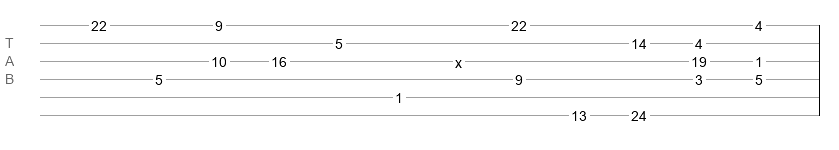1: (395, 90, 403, 100), (755, 54, 763, 64)
10: (211, 54, 227, 64)
13: (571, 108, 587, 118)
14: (631, 36, 647, 46)
16: (271, 54, 287, 64)
19: (691, 54, 707, 64)
22: (91, 18, 107, 28), (511, 18, 527, 28)
24: (631, 108, 647, 118)
3: (695, 72, 703, 82)
4: (695, 36, 703, 46), (755, 18, 763, 28)
5: (155, 72, 163, 82), (335, 36, 343, 46), (755, 72, 763, 82)
9: (215, 18, 223, 28), (515, 72, 523, 82)
x: (455, 55, 462, 63)
